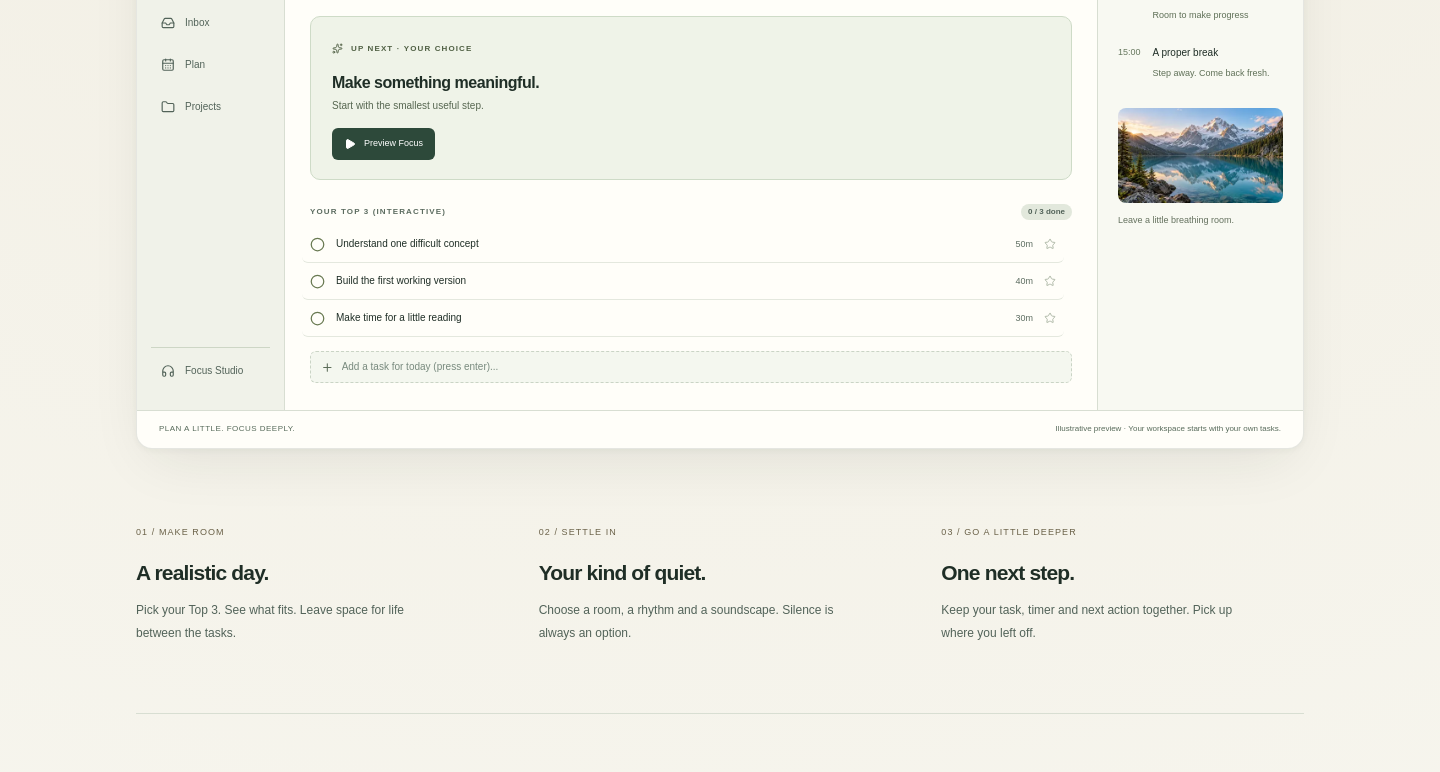
it: WelcomePage Frontier Upgrade › adds a new preview task when submitted through the capture form
(page scrolled)
Type "Review pull requests" into the field named "Add a task to preview". click: {"x": 701, "y": 367}
box: [342,359,1061,375]
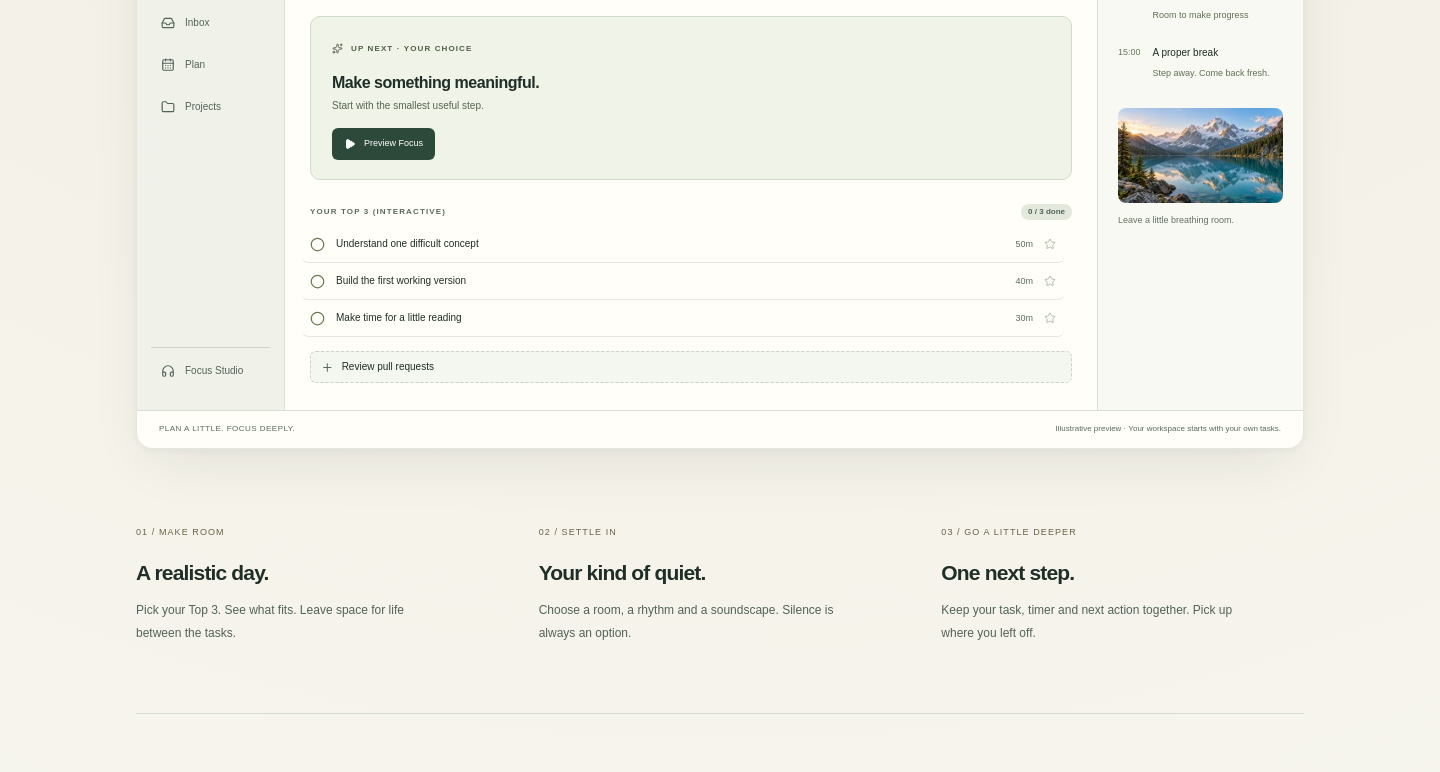
Submit the form named "Add a task to preview", box [310,351,1072,383]
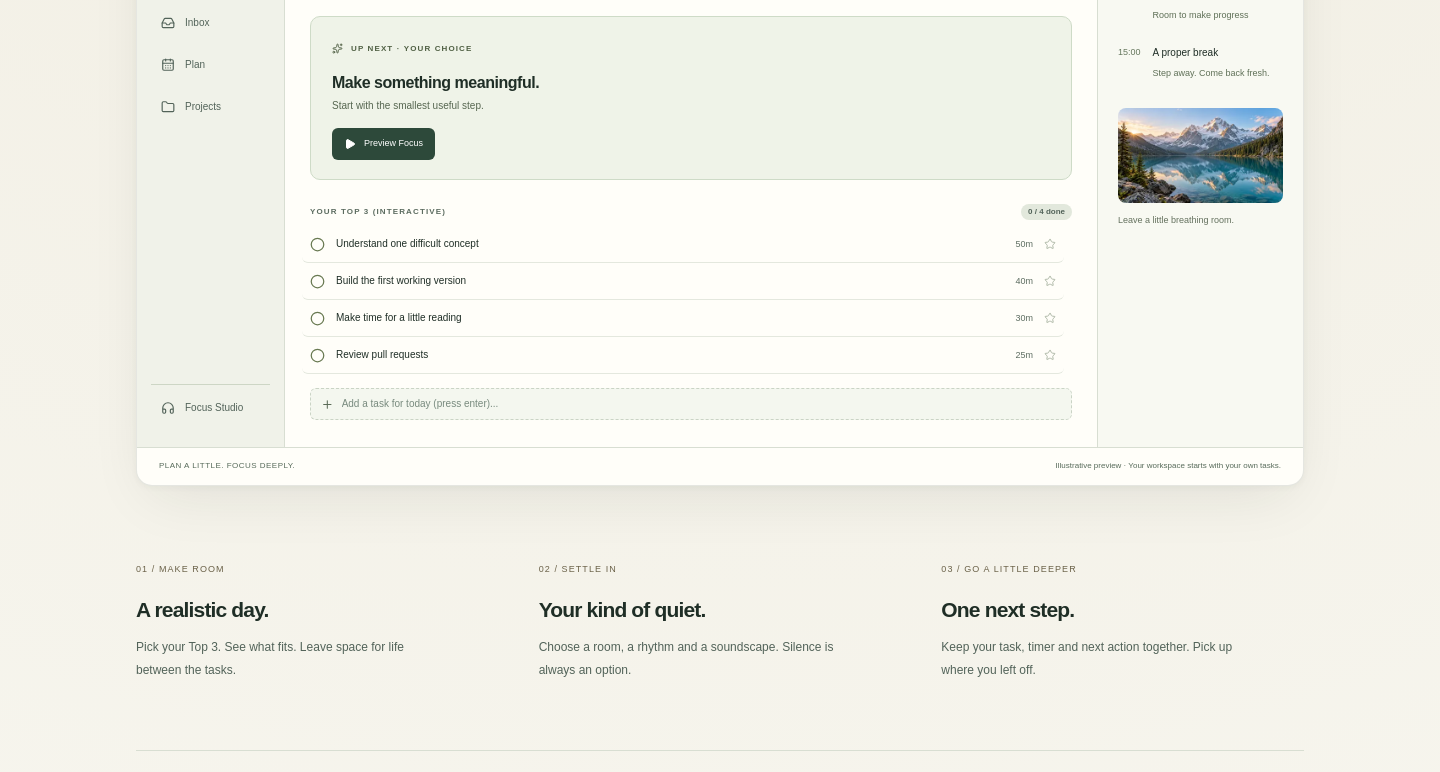
Result: the button with aria-label "Toggle task: Review pull requests" is shown at [302,337,1064,374]
